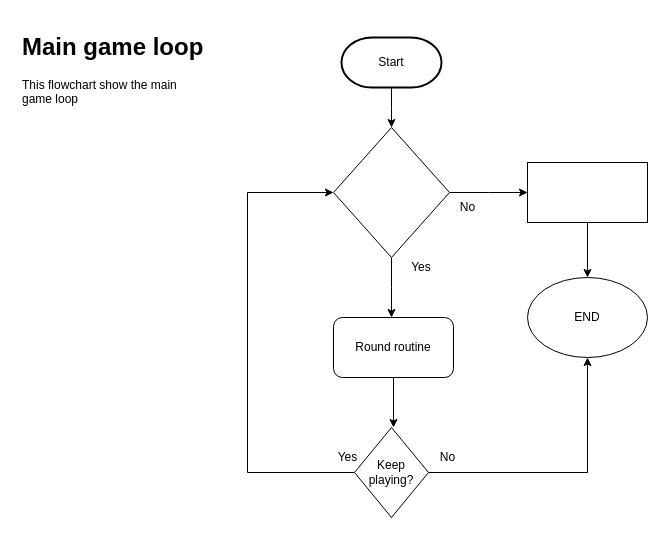
This 665x535 diagram has some shape labels left out. The shapes that lost their labels are listed below. From the top down, each one's box as (x1, y1, x2, y2) in pixels, then its label:
(332, 126, 450, 258): Player has more money than minimum bet?
(526, 162, 648, 222): Tell player he is broke
